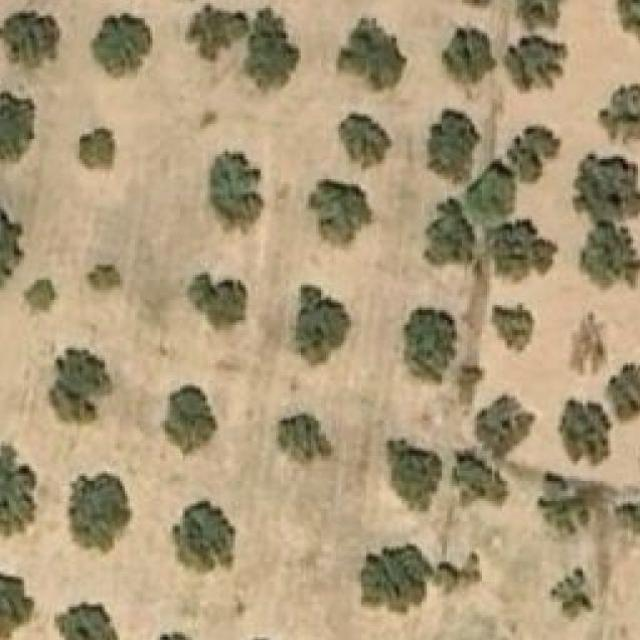Tree: (66, 474, 135, 554), (339, 18, 410, 92), (359, 544, 430, 618), (487, 219, 561, 283), (173, 501, 237, 575), (49, 350, 113, 421), (572, 153, 640, 219), (210, 149, 264, 232), (291, 285, 346, 365), (242, 6, 301, 80), (404, 307, 458, 385), (577, 224, 640, 289), (502, 35, 571, 94), (160, 383, 215, 457), (90, 13, 153, 77), (309, 179, 372, 243), (442, 28, 497, 99), (427, 109, 480, 182), (389, 441, 443, 511), (188, 273, 249, 333), (0, 9, 59, 68), (0, 446, 37, 536), (425, 199, 475, 265), (560, 403, 614, 464), (279, 416, 339, 469), (180, 8, 246, 56), (339, 114, 395, 169), (475, 397, 525, 456), (507, 124, 556, 184), (594, 83, 640, 143), (540, 476, 586, 534), (53, 598, 116, 640), (0, 568, 36, 640), (464, 167, 512, 220), (455, 454, 498, 507), (0, 209, 24, 295), (570, 320, 608, 373), (492, 305, 532, 355), (608, 360, 640, 421), (0, 94, 29, 159), (558, 574, 590, 615), (80, 129, 114, 167), (517, 0, 563, 28), (22, 280, 57, 315), (618, 0, 640, 46), (615, 496, 640, 534), (88, 264, 122, 290)
